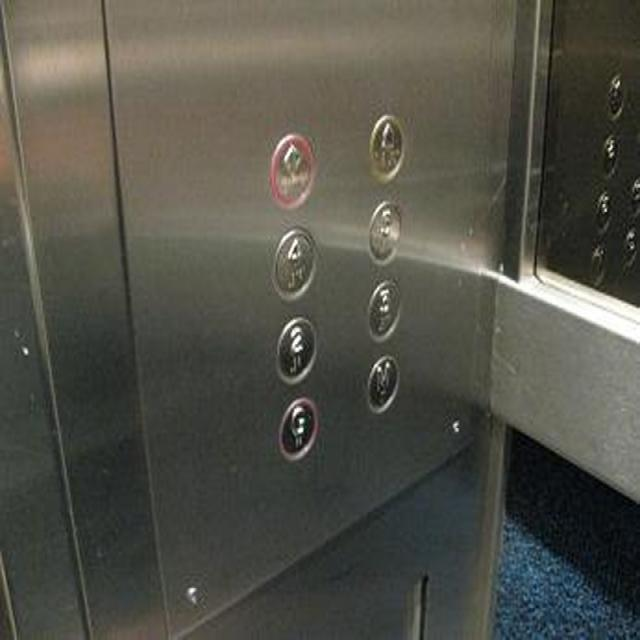2: (274, 310, 317, 382)
3: (366, 274, 400, 338)
4: (271, 220, 317, 299)
5: (366, 196, 401, 263)
G: (276, 392, 318, 460)
M: (366, 349, 398, 412)
alarm: (365, 110, 405, 182)
blur: (598, 132, 618, 179), (605, 73, 625, 119), (587, 245, 608, 287), (594, 189, 612, 232)
open: (269, 128, 314, 211)
